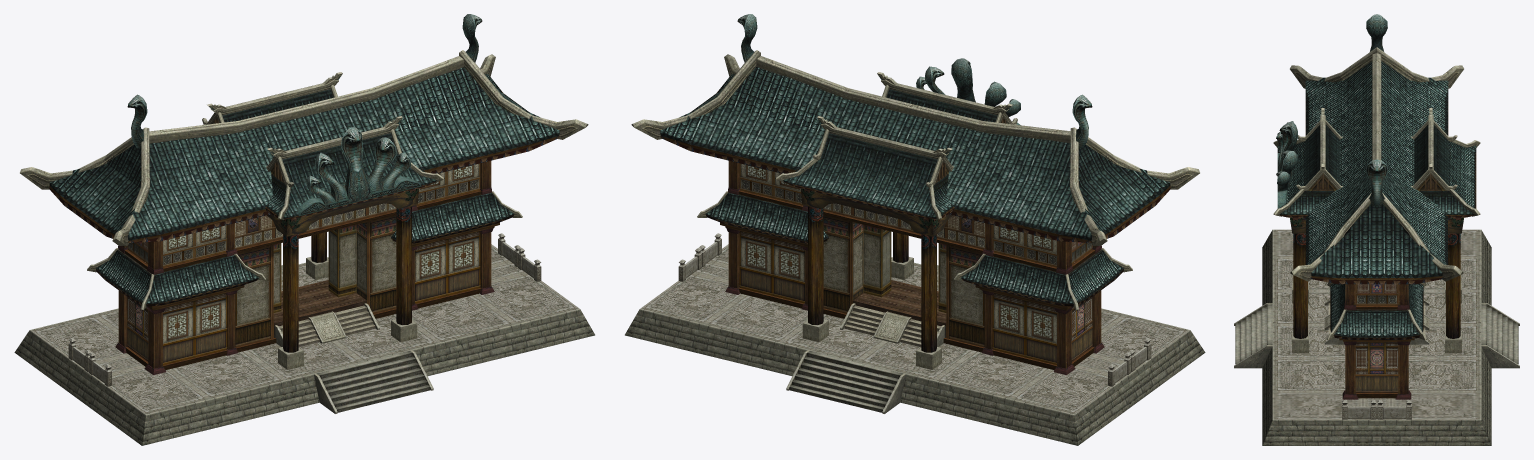
Rendered from gls_a_03.glb.
3 views of the same model, side by side, from view 1: azimuth 30°, elevation 25°; view 2: azimuth 150°, elevation 25°; view 3: azimuth 270°, elevation 25° (orthographic). The views are drawn at different scales.
Visible parts, largest first — view 1: gls_A_03, gls_A_03_01; view 2: gls_A_03, gls_A_03_01; view 3: gls_A_03, gls_A_03_01.
Part boxes in pixels (left/top/right/bottom): gls_A_03: left=14, top=50, right=594, bottom=445; gls_A_03_01: left=127, top=14, right=482, bottom=216; gls_A_03: left=625, top=50, right=1205, bottom=445; gls_A_03_01: left=737, top=14, right=1092, bottom=148; gls_A_03: left=1234, top=47, right=1519, bottom=445; gls_A_03_01: left=1276, top=14, right=1387, bottom=208.
Bounding box in the file's own units: 22.68 × 13.17 × 13.12.
Materials: 5 (5 with a texture image).
